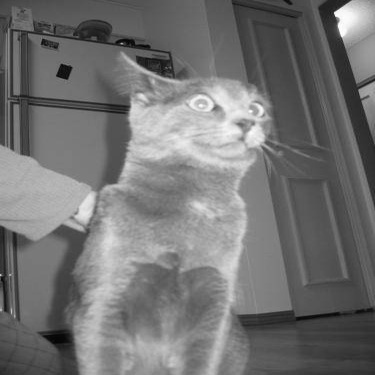cat: (60, 45, 286, 371)
